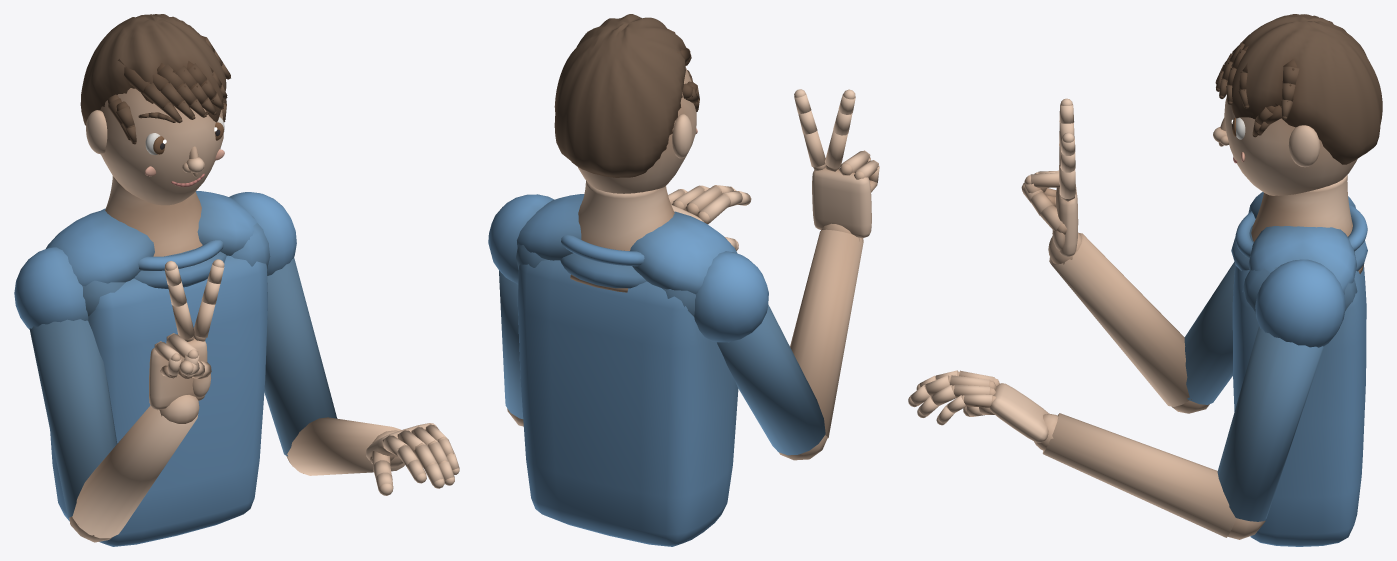
3 views of the same model, side by side, from view 1: azimuth 30°, elevation 25°; view 2: azimuth 150°, elevation 25°; view 3: azimuth 270°, elevation 25° (orthographic).
Parts seen in each view (by area): view 1: LSC_Body; view 2: LSC_Body; view 3: LSC_Body.
Boxes of the visible parts, <box> form: LSC_Body: <box>14,14,459,546</box>; LSC_Body: <box>488,14,879,546</box>; LSC_Body: <box>908,14,1382,546</box>.
Size of the model in its own units: 0.4304 by 0.713 by 0.6104.
